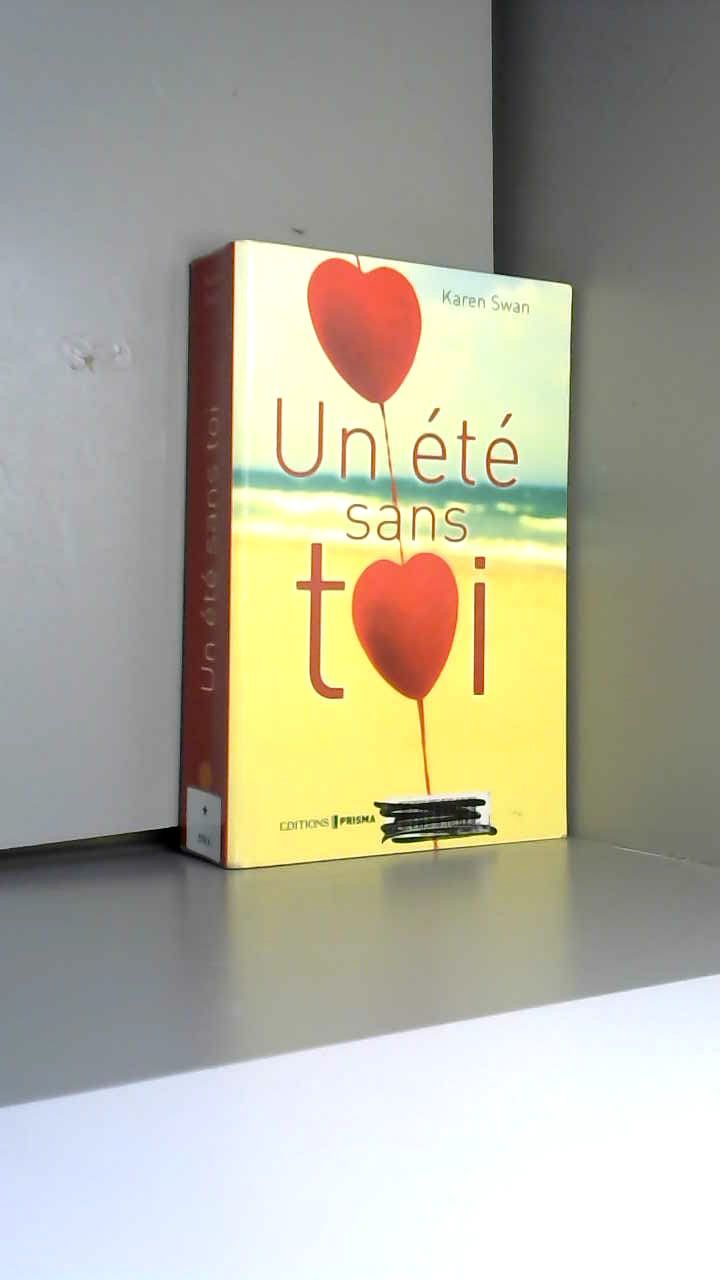book: (155, 208, 612, 915)
